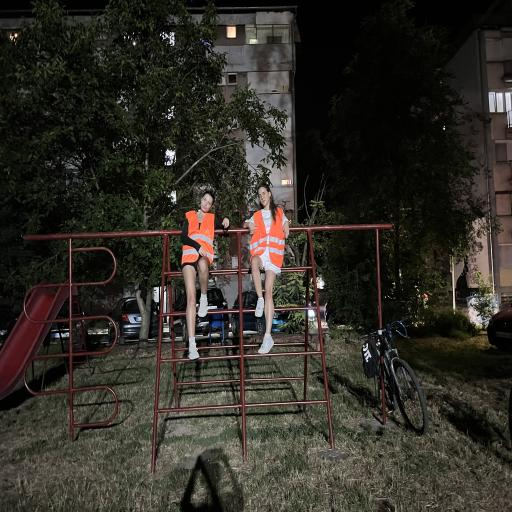masa: (257, 187, 270, 209)
